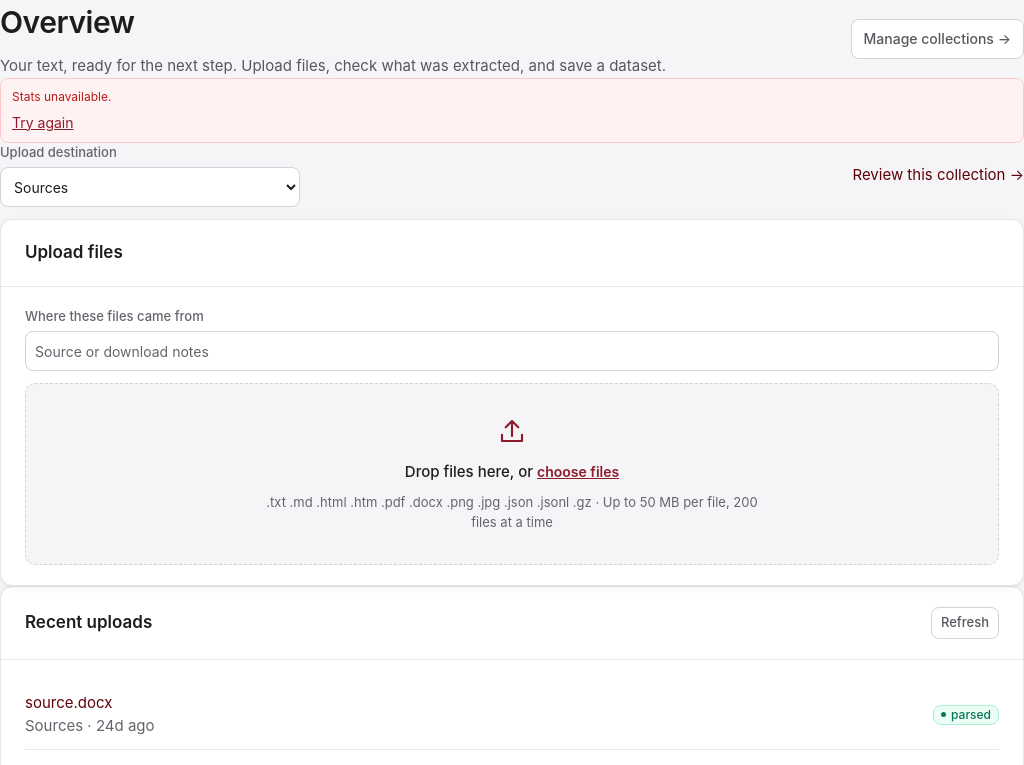
recovers statistics without hiding working upload activity
Expected: the text "Stats unavailable." is shown, [12, 88, 111, 104]
Expected: the link "source.docx" is shown, [25, 693, 112, 712]
What coordinates should you click on to do the following:
click the button "Try again"
I would click on:
 (43, 122)
Its box is [12, 112, 74, 132].
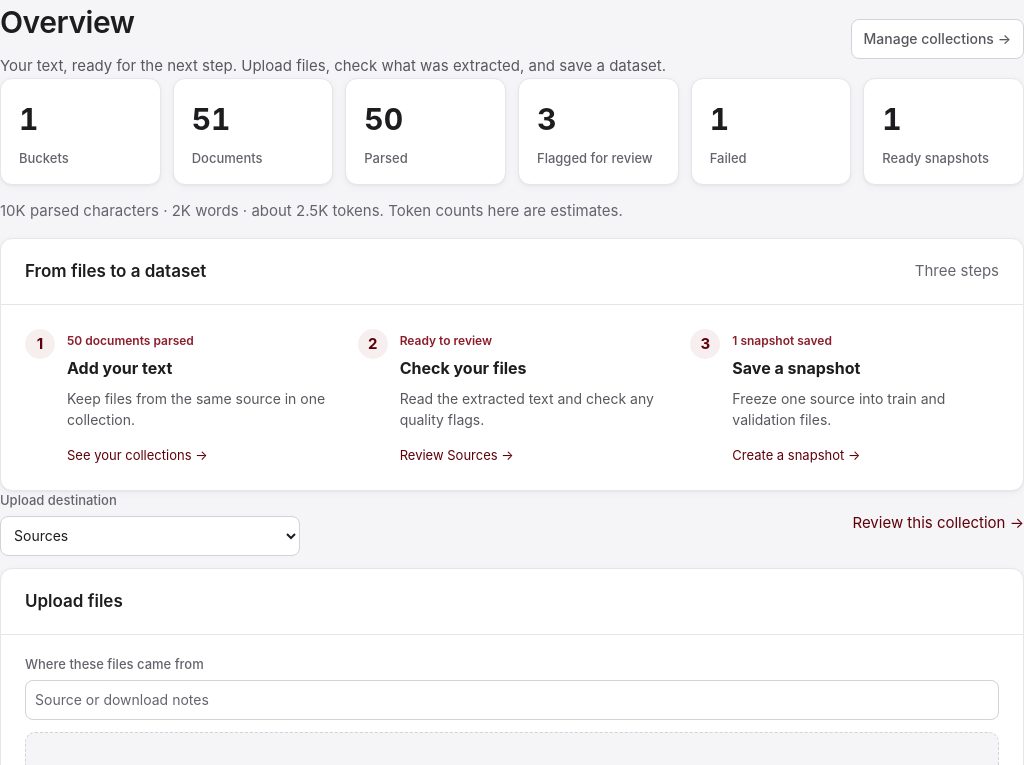
Expected: the text "Flagged for review" is shown, [537, 150, 660, 166]
Expected: the text "Stats unavailable." is gone
